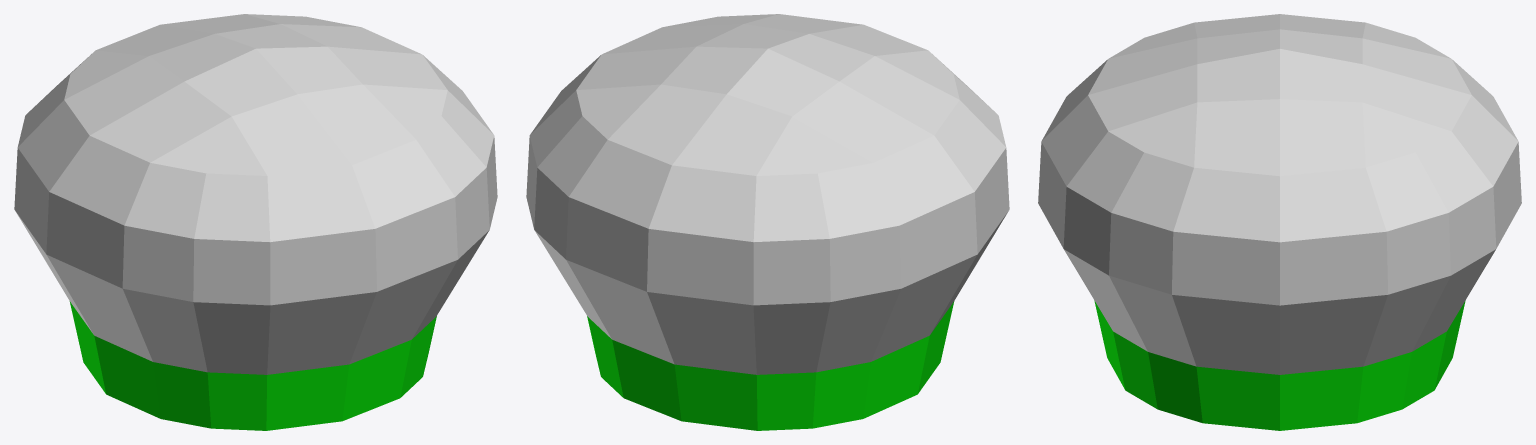
The model's file is Crisantemo.fbx.
3 renders of one model, left to right at view 1: azimuth 30°, elevation 25°; view 2: azimuth 150°, elevation 25°; view 3: azimuth 270°, elevation 25°, orthographic.
Parts seen in each view (by area): view 1: Crisantemo; view 2: Crisantemo; view 3: Crisantemo.
Part boxes in pixels (x1,y1,x2,y2): Crisantemo: [14, 14, 497, 430]; Crisantemo: [526, 14, 1009, 430]; Crisantemo: [1038, 14, 1521, 430].
Size of the model in its own units: 284 by 200 by 284.
